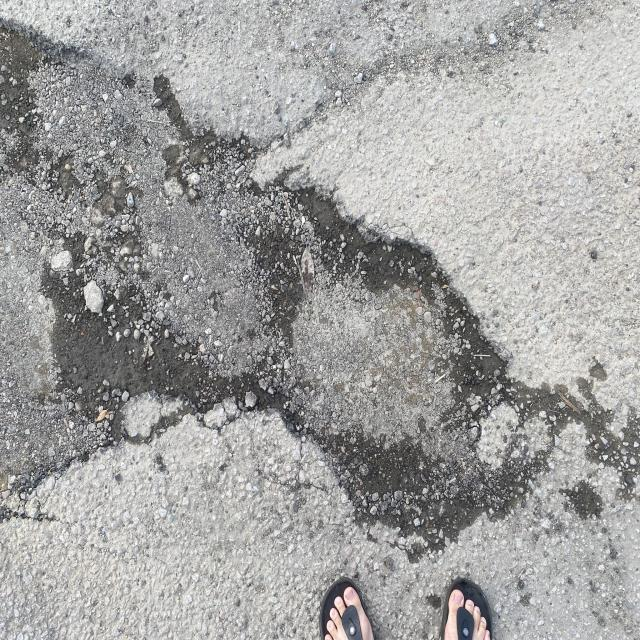Pothole: (39, 208, 522, 548)
